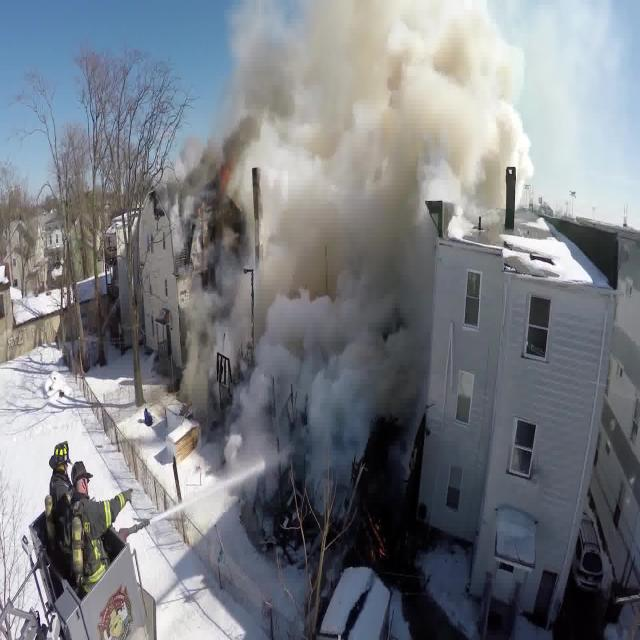Smoke: (188, 5, 526, 464)
